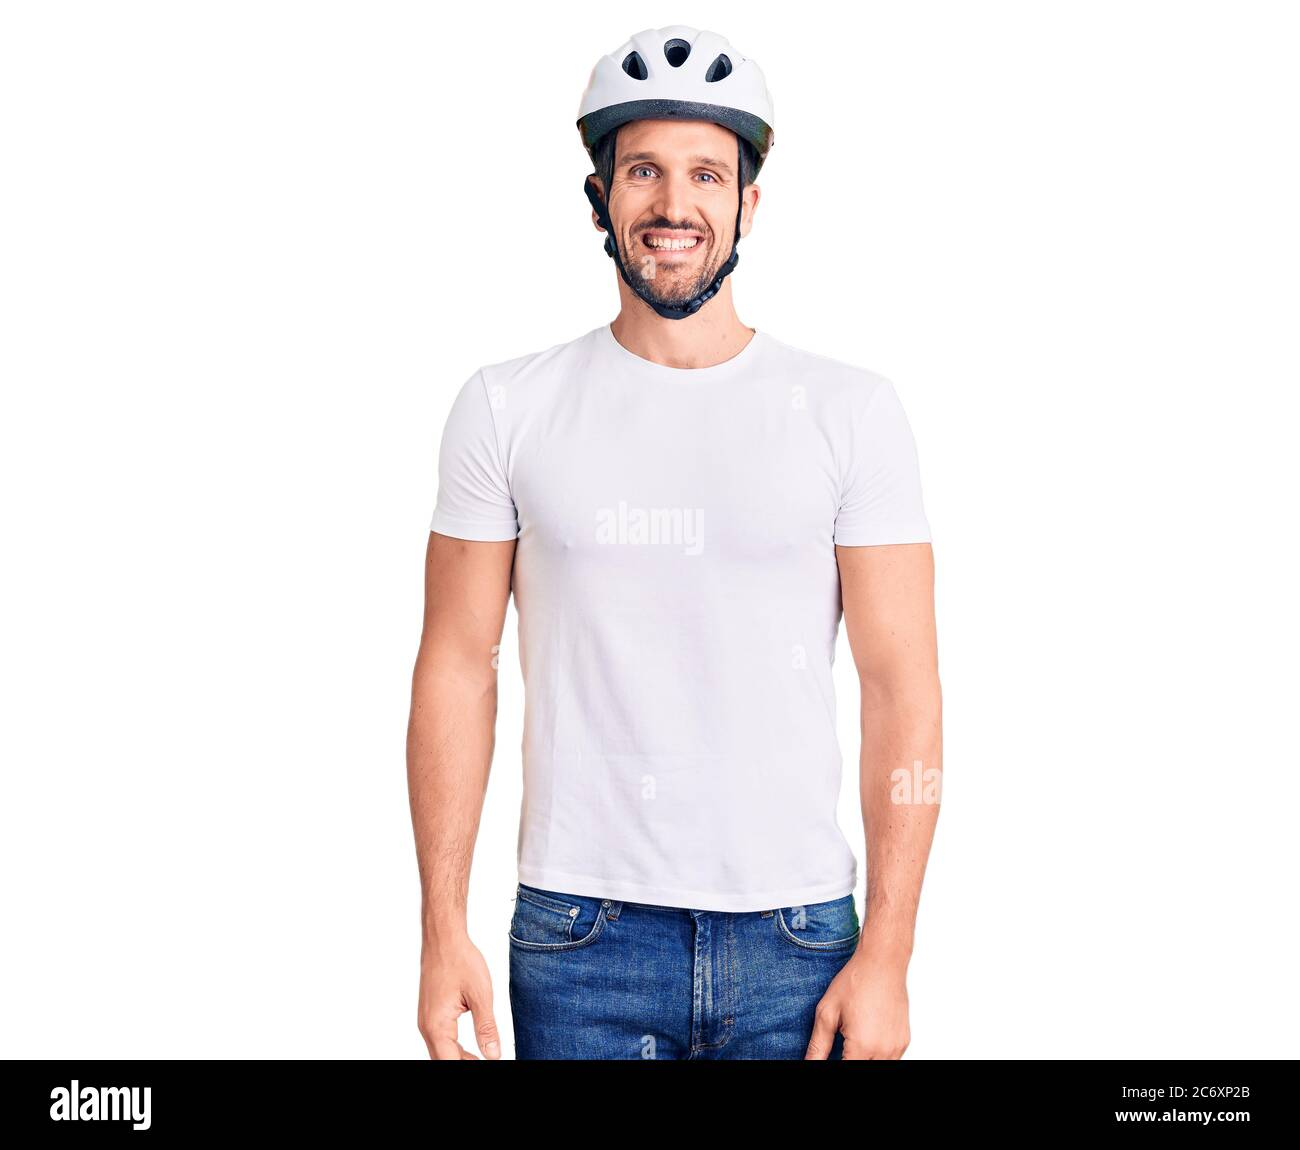helmet: (576, 24, 772, 317)
